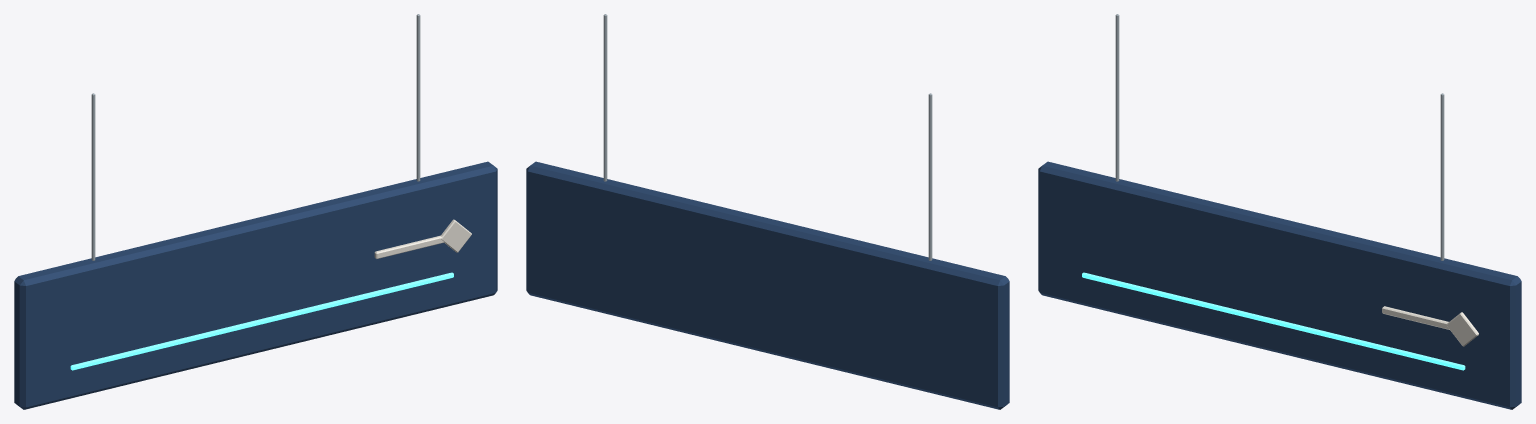
The model's file is public_03.glb.
The picture shows the model from 3 angles, left to right: view 1: azimuth 30°, elevation 25°; view 2: azimuth 150°, elevation 25°; view 3: azimuth 330°, elevation 25°; orthographic projection.
Visible parts, largest first — view 1: DirectionBoard, DirectionStripe, SuspendRod (×2), ArrowHead, ArrowShaft; view 2: DirectionBoard, SuspendRod (×2); view 3: DirectionBoard, DirectionStripe, SuspendRod (×2), ArrowHead, ArrowShaft.
Part boxes in pixels (left/top/right/bottom): DirectionBoard: left=14, top=161, right=497, bottom=409; DirectionStripe: left=70, top=272, right=453, bottom=370; SuspendRod (×2): left=91, top=14, right=420, bottom=260; ArrowHead: left=440, top=219, right=471, bottom=252; ArrowShaft: left=374, top=235, right=444, bottom=258; DirectionBoard: left=526, top=161, right=1009, bottom=409; SuspendRod (×2): left=603, top=14, right=932, bottom=260; DirectionBoard: left=1038, top=161, right=1521, bottom=409; DirectionStripe: left=1082, top=272, right=1465, bottom=370; SuspendRod (×2): left=1115, top=14, right=1444, bottom=260; ArrowHead: left=1446, top=312, right=1478, bottom=346; ArrowShaft: left=1382, top=306, right=1449, bottom=329.
Size of the model in its own units: 1.35 by 0.8 by 0.072.
